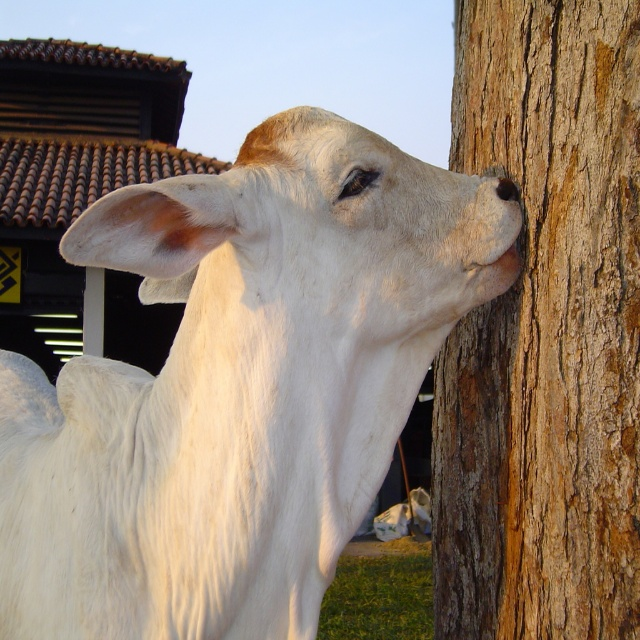Cattle: (0, 91, 530, 640)
